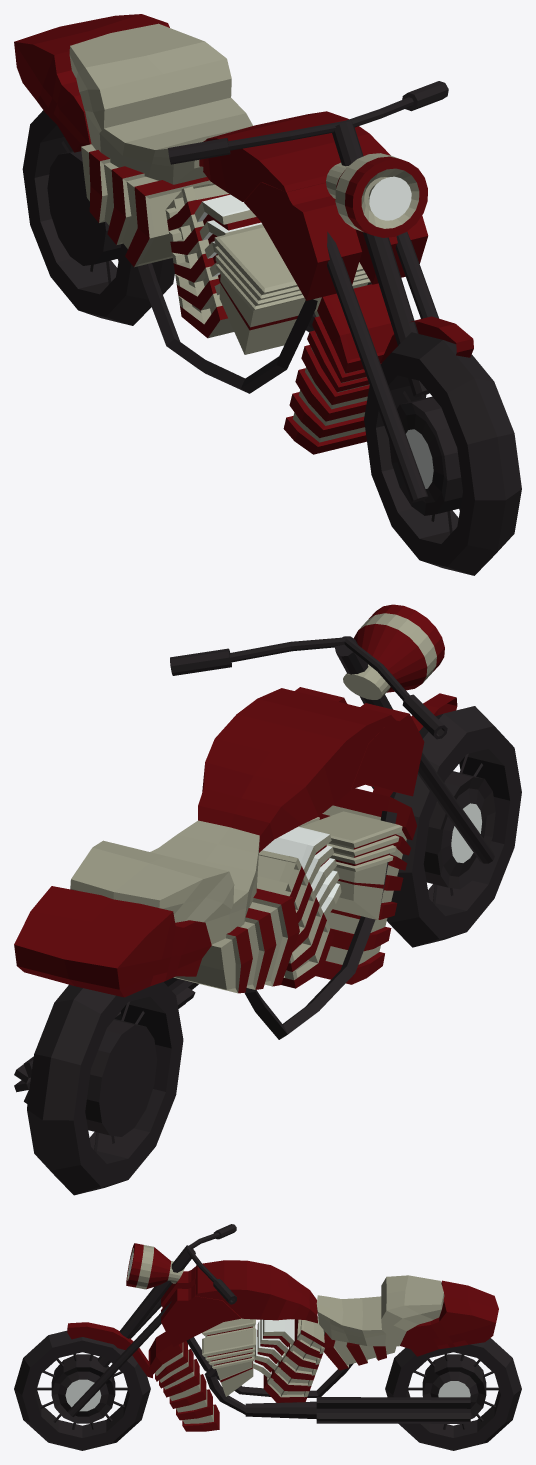
The model's file is Bike3.fbx.
3 views of the same model, one above another, from view 1: azimuth 30°, elevation 25°; view 2: azimuth 150°, elevation 25°; view 3: azimuth 270°, elevation 25° (orthographic). The views are drawn at different scales.
Parts seen in each view (by area): view 1: Cube.009; view 2: Cube.009; view 3: Cube.009.
Boxes of the visible parts, x1,y1,x2,y2 form: Cube.009: (14, 14, 521, 575); Cube.009: (14, 604, 521, 1195); Cube.009: (14, 1224, 521, 1450).
Bounding box in the file's own units: 200 × 258 × 580.
1 material, 1 textured.
